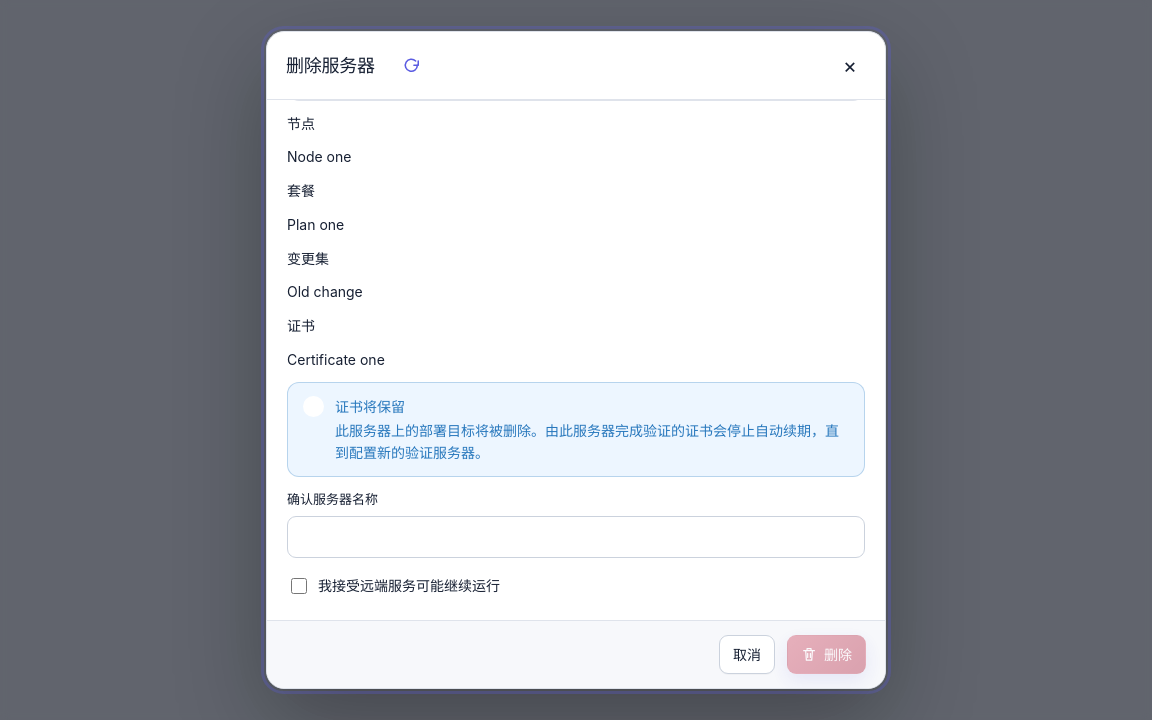
Test: React server management › invalidates a failed removal preview and requires a fresh preview/confirmation
The image size is (1152, 720).
(page scrolled)
Type "Edge" into the field named "确认服务器名称" at (576, 538), box [287, 516, 865, 558]
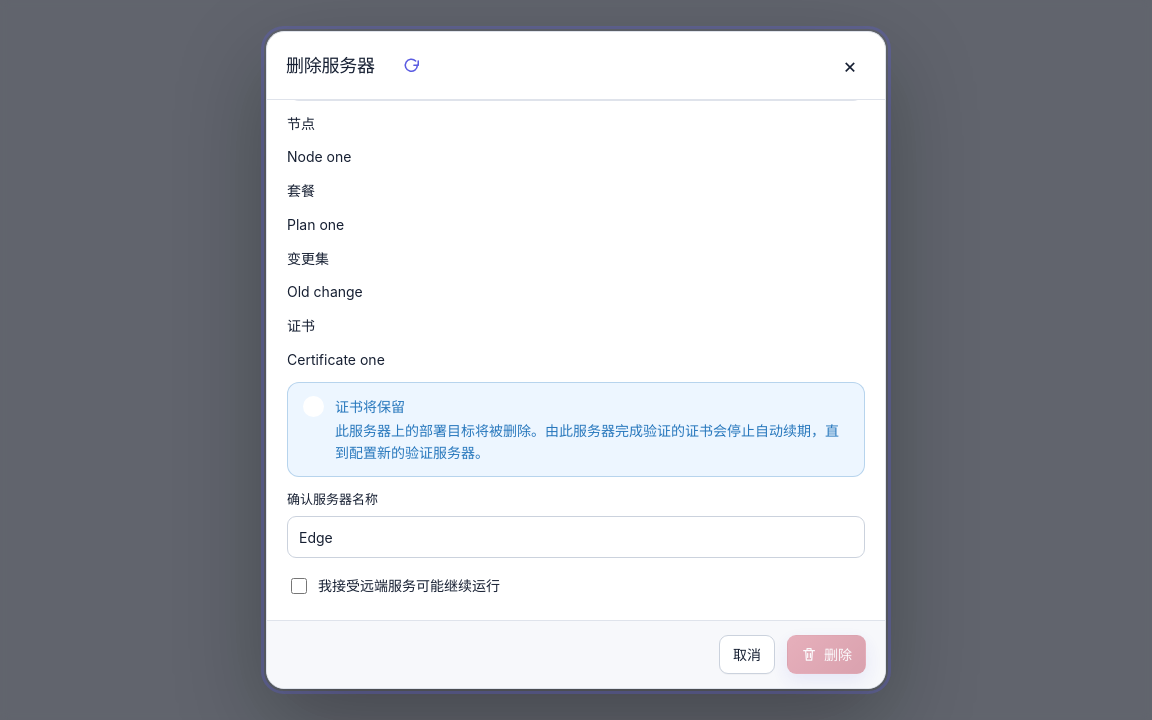
Click the checkbox labelled "我接受远端服务可能继续运行" at (299, 586), box [291, 578, 307, 594]
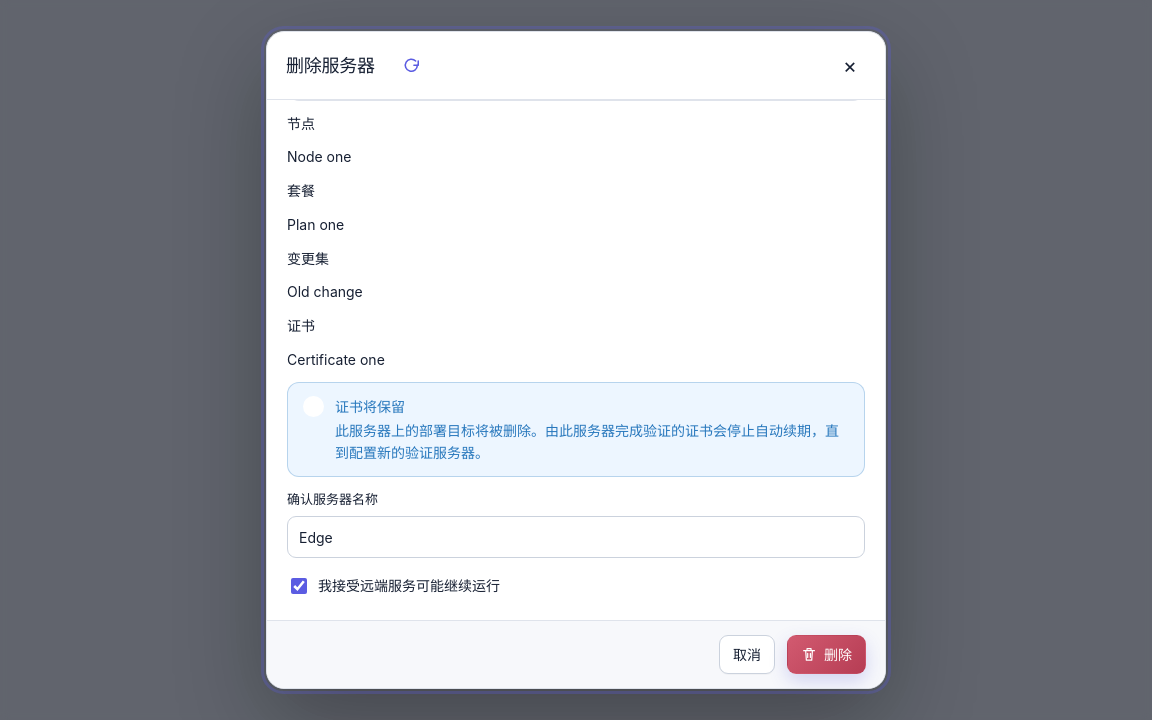
Click the button "删除" at (826, 654), box [787, 635, 866, 674]
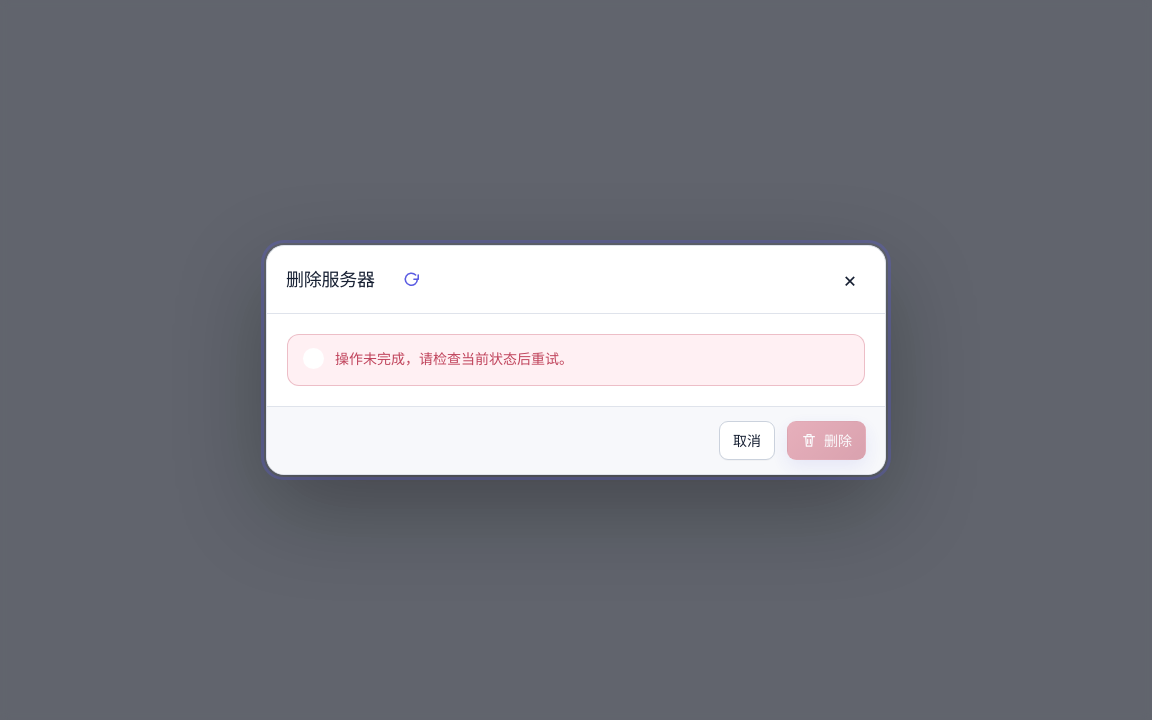
Check: the text "操作未完成，请检查当前状态后重试。" is shown, box [335, 350, 573, 367]
Check: the label labelled "确认服务器名称" is gone
Check: the button "删除" is disabled, box [787, 421, 866, 460]
Click the button named "重新加载服务器详情" at (411, 280), box [387, 260, 435, 299]
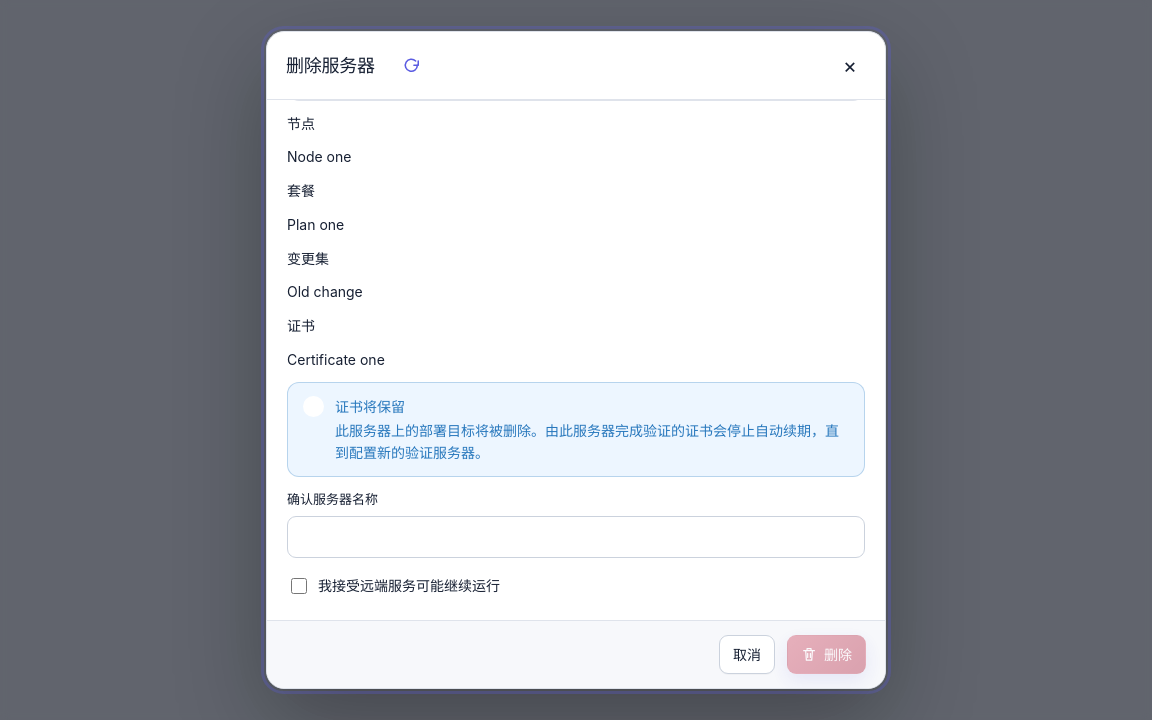
Check: the field named "确认服务器名称" is empty, box [287, 516, 865, 558]
Check: the checkbox labelled "我接受远端服务可能继续运行" is not checked, box [291, 578, 307, 594]
